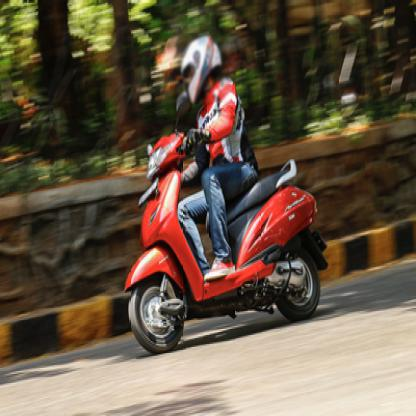Helmet: (169, 29, 231, 107)
